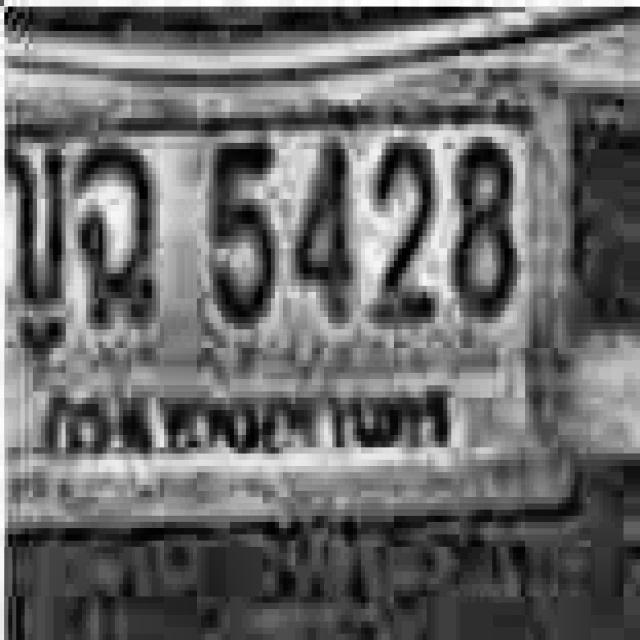license-plate: (0, 55, 587, 530)
